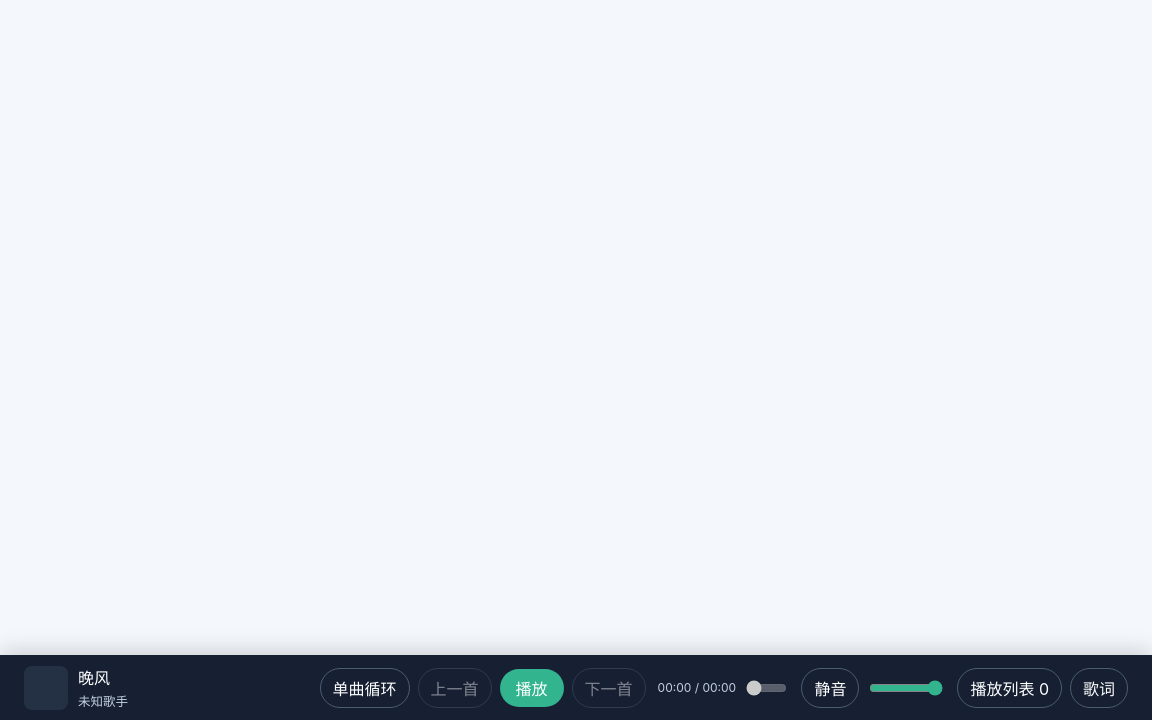
Scenario: PlayerBar › shows song comments in the lyric panel without linking the author
Click the button with aria-label "歌词" at (1099, 688), box [1070,668,1128,708]
(page scrolled)
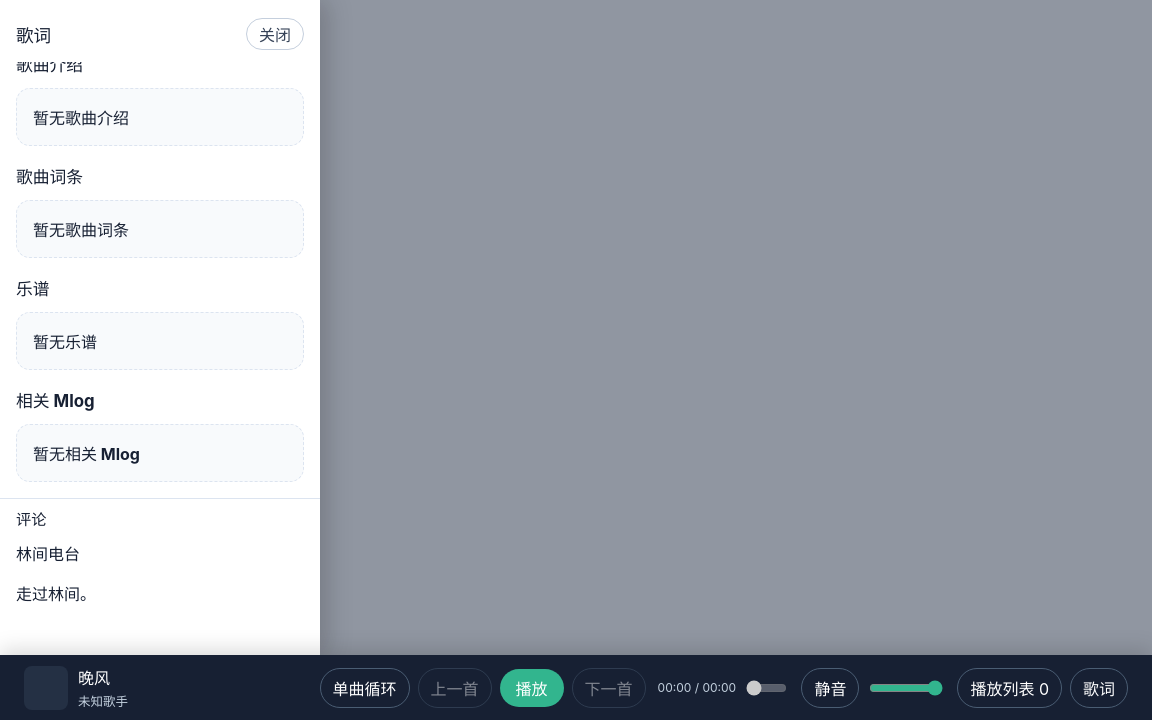
Expected: the element with test id "song-comments" shows "走过林间。", [16,584,96,604]
Expected: the text "林间电台" is shown, [16,544,80,564]
